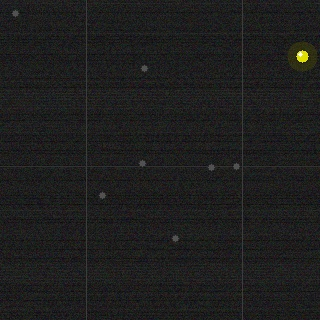yellow_warning: (294, 48, 310, 64)
